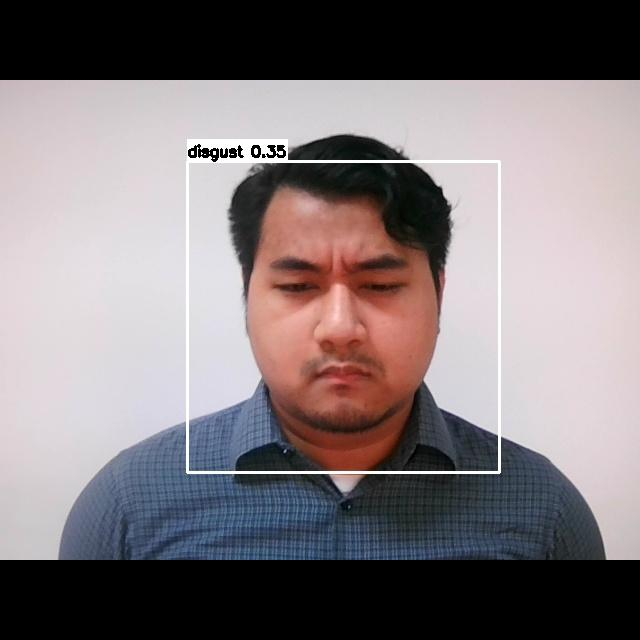Angry: (266, 245, 427, 411)
